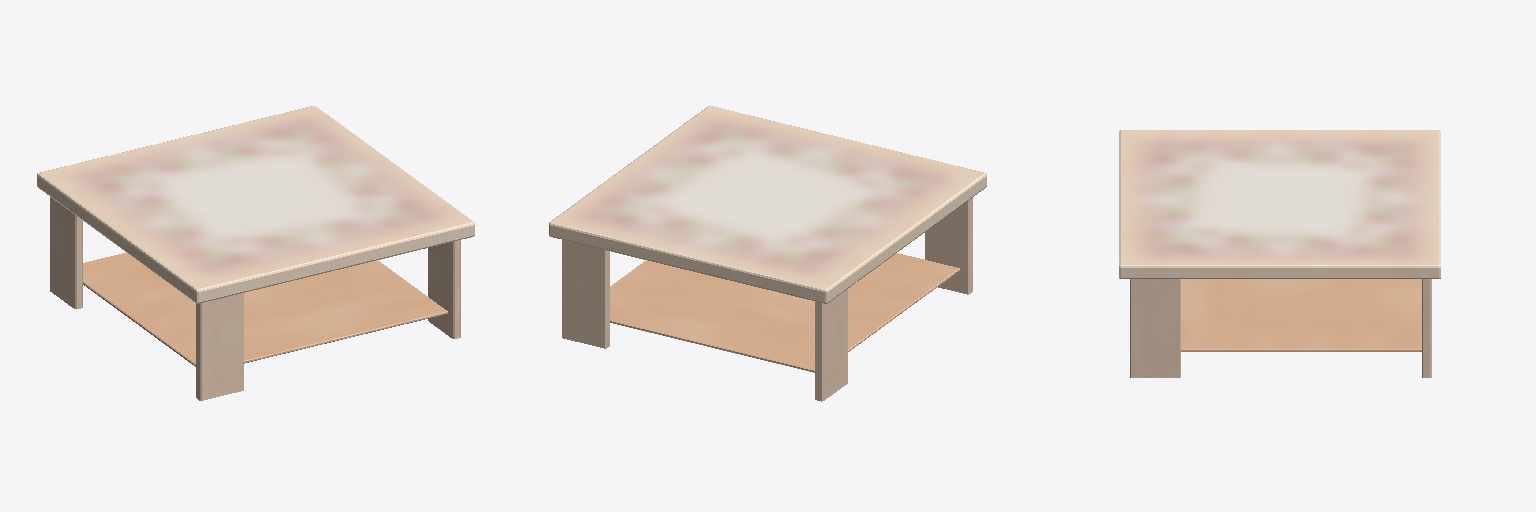
3 renders of one model, left to right at view 1: azimuth 30°, elevation 25°; view 2: azimuth 150°, elevation 25°; view 3: azimuth 270°, elevation 25°, orthographic.
Parts seen in each view (by area): view 1: _TeaTable:pCube1 group62, group62 _TeaTable:pCube6, group62 _TeaTable:pCube2, group62 _TeaTable:pCube5, group62 _TeaTable:pCube3; view 2: _TeaTable:pCube1 group62, group62 _TeaTable:pCube6, group62 _TeaTable:pCube4, group62 _TeaTable:pCube5, group62 _TeaTable:pCube2; view 3: _TeaTable:pCube1 group62, group62 _TeaTable:pCube6, group62 _TeaTable:pCube3, group62 _TeaTable:pCube4.
Part boxes in pixels (bbox=[...]): _TeaTable:pCube1 group62: bbox=[37, 106, 474, 303]; group62 _TeaTable:pCube6: bbox=[83, 252, 447, 366]; group62 _TeaTable:pCube2: bbox=[196, 293, 243, 400]; group62 _TeaTable:pCube5: bbox=[50, 197, 82, 308]; group62 _TeaTable:pCube3: bbox=[428, 240, 460, 338]; _TeaTable:pCube1 group62: bbox=[549, 106, 986, 303]; group62 _TeaTable:pCube6: bbox=[610, 253, 959, 372]; group62 _TeaTable:pCube4: bbox=[562, 240, 609, 348]; group62 _TeaTable:pCube5: bbox=[815, 289, 847, 401]; group62 _TeaTable:pCube2: bbox=[925, 198, 972, 294]; _TeaTable:pCube1 group62: bbox=[1119, 130, 1440, 278]; group62 _TeaTable:pCube6: bbox=[1181, 279, 1421, 351]; group62 _TeaTable:pCube3: bbox=[1130, 279, 1180, 377]; group62 _TeaTable:pCube4: bbox=[1422, 279, 1431, 377].
Bounding box in the file's own units: 100 × 40 × 100.
Materials: 1 (1 with a texture image).